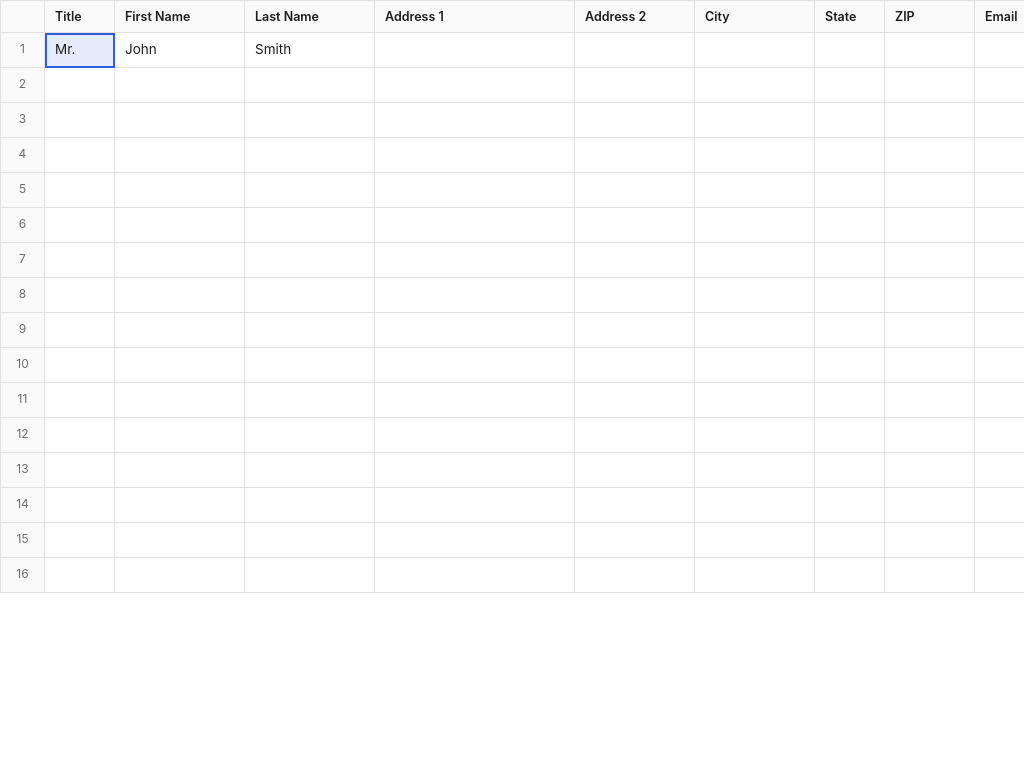
Test: row header: select row / open Contact View › Combined mode edits round-trip back into title/first/last
Double-click the cell with class "row-header-cell" showing "1" at [22, 50], box [0,32,44,68]
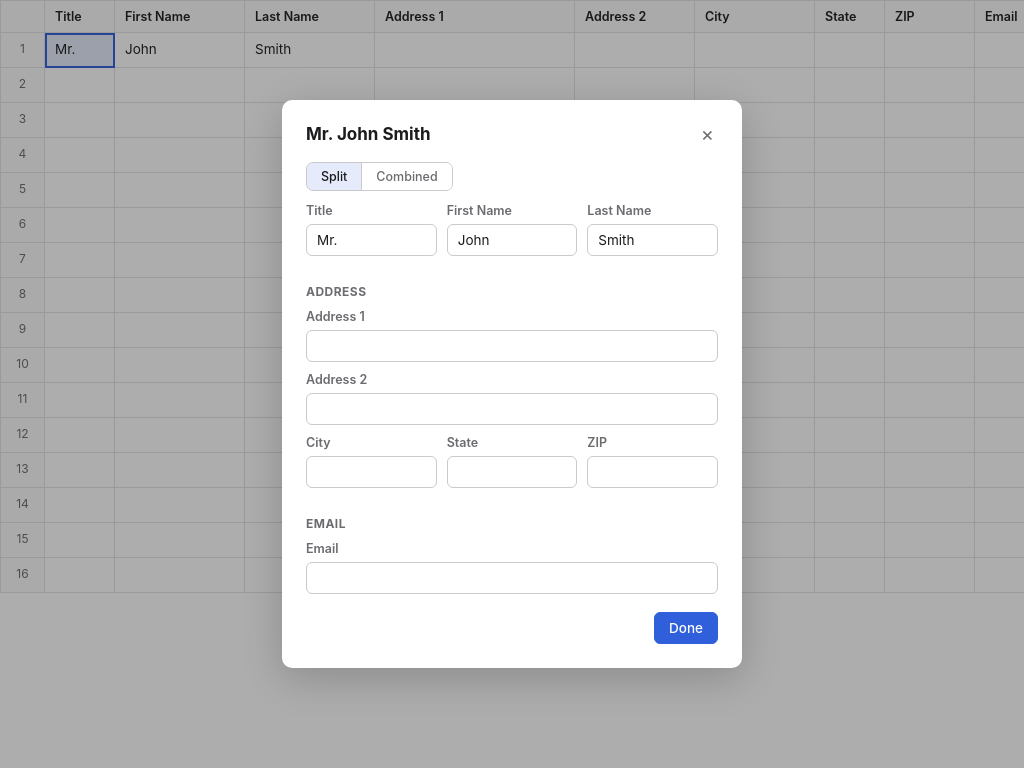
Click the tab "Combined" at [407, 176], box [361,163,452,190]
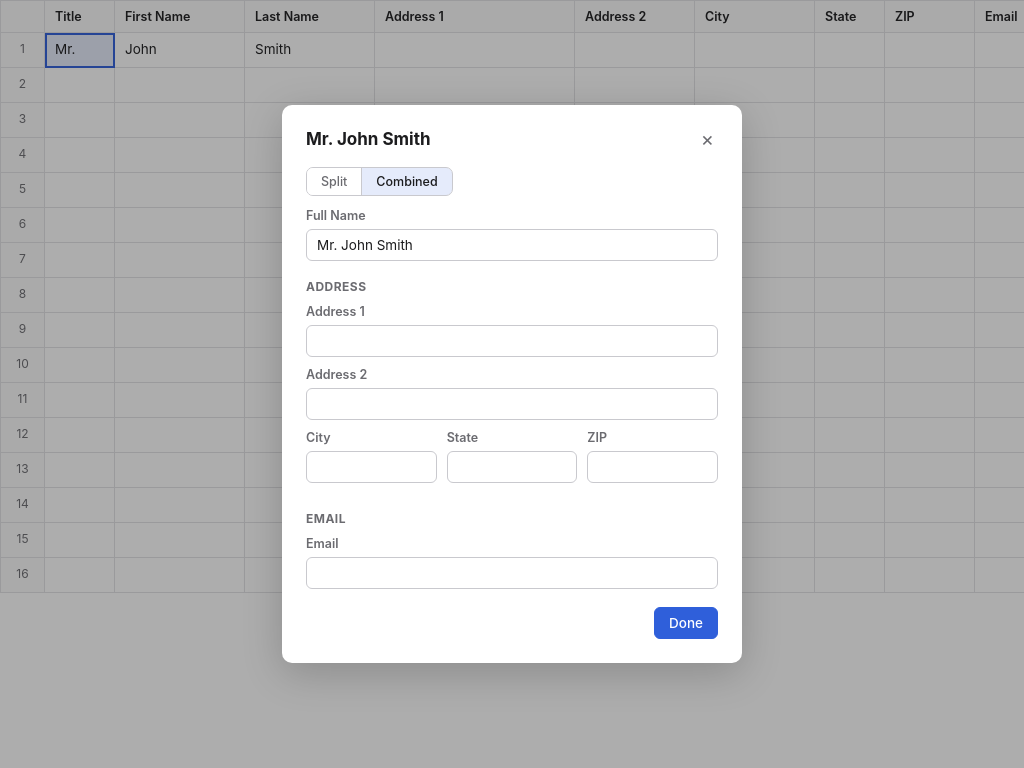
Replace the text in the field showing "Mr. John Smith" with "Dr. Jane Cohen" at [512, 245], box [306,229,718,261]
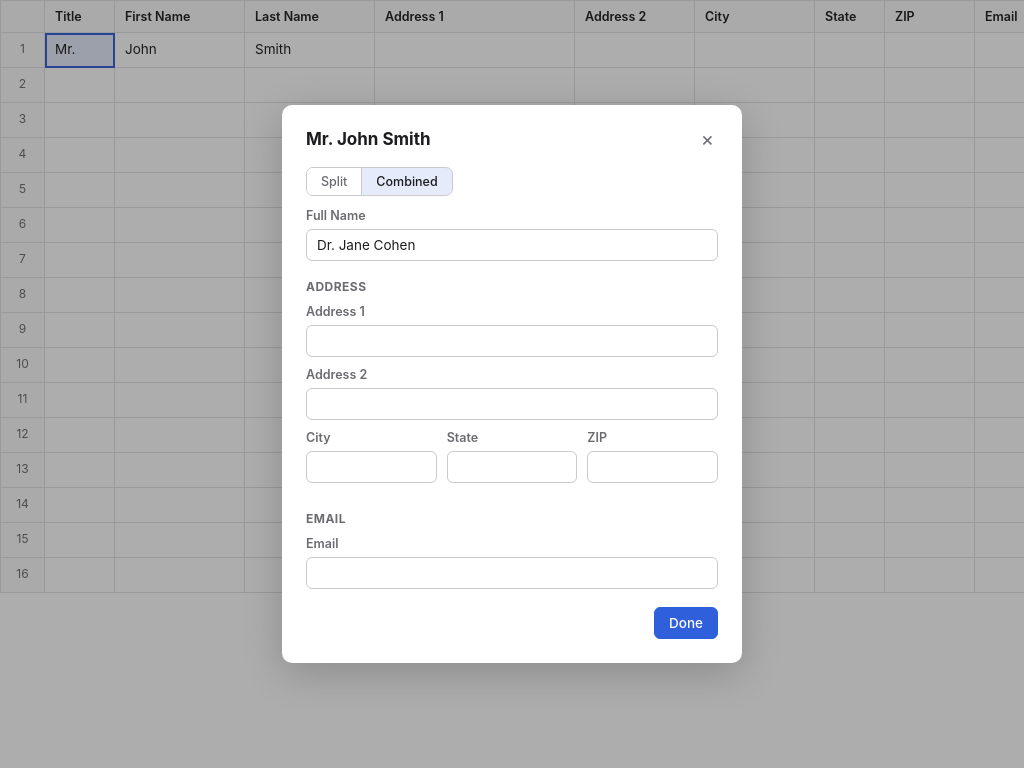
Leave the field showing "Mr. John Smith", box [306,229,718,261]
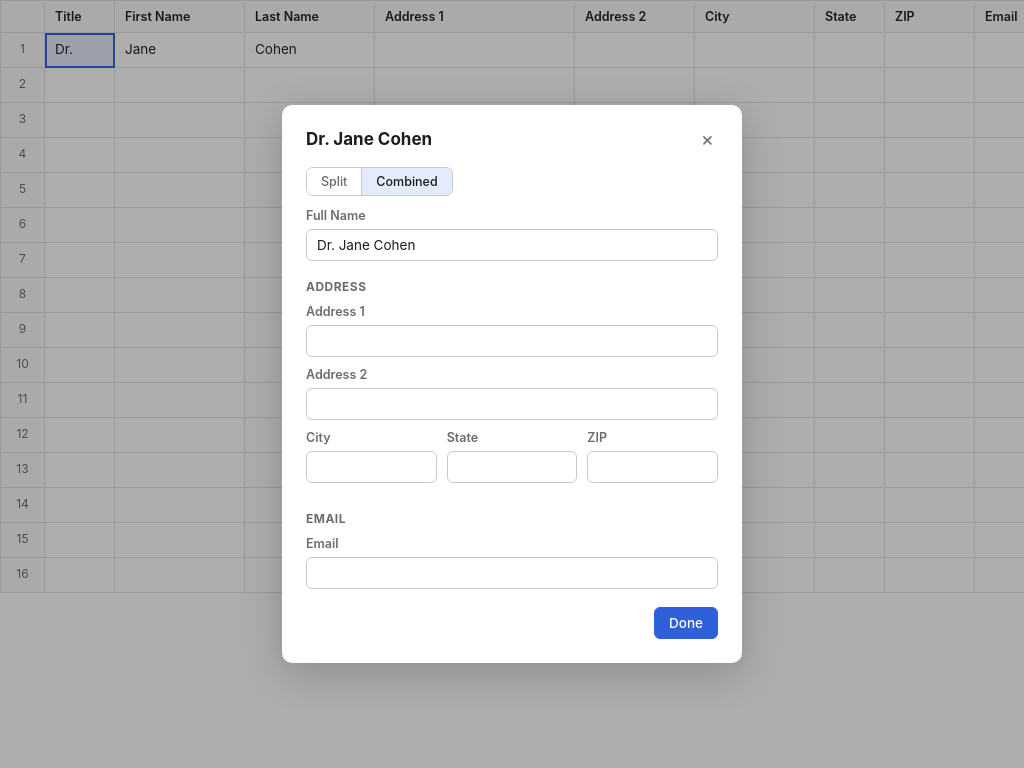
Check: the text with class "cell-display" reads "Dr.", box [55,41,73,57]
Check: the text with class "cell-display" reads "Jane", box [125,41,156,57]
Check: the text with class "cell-display" reads "Cohen", box [255,41,297,57]
